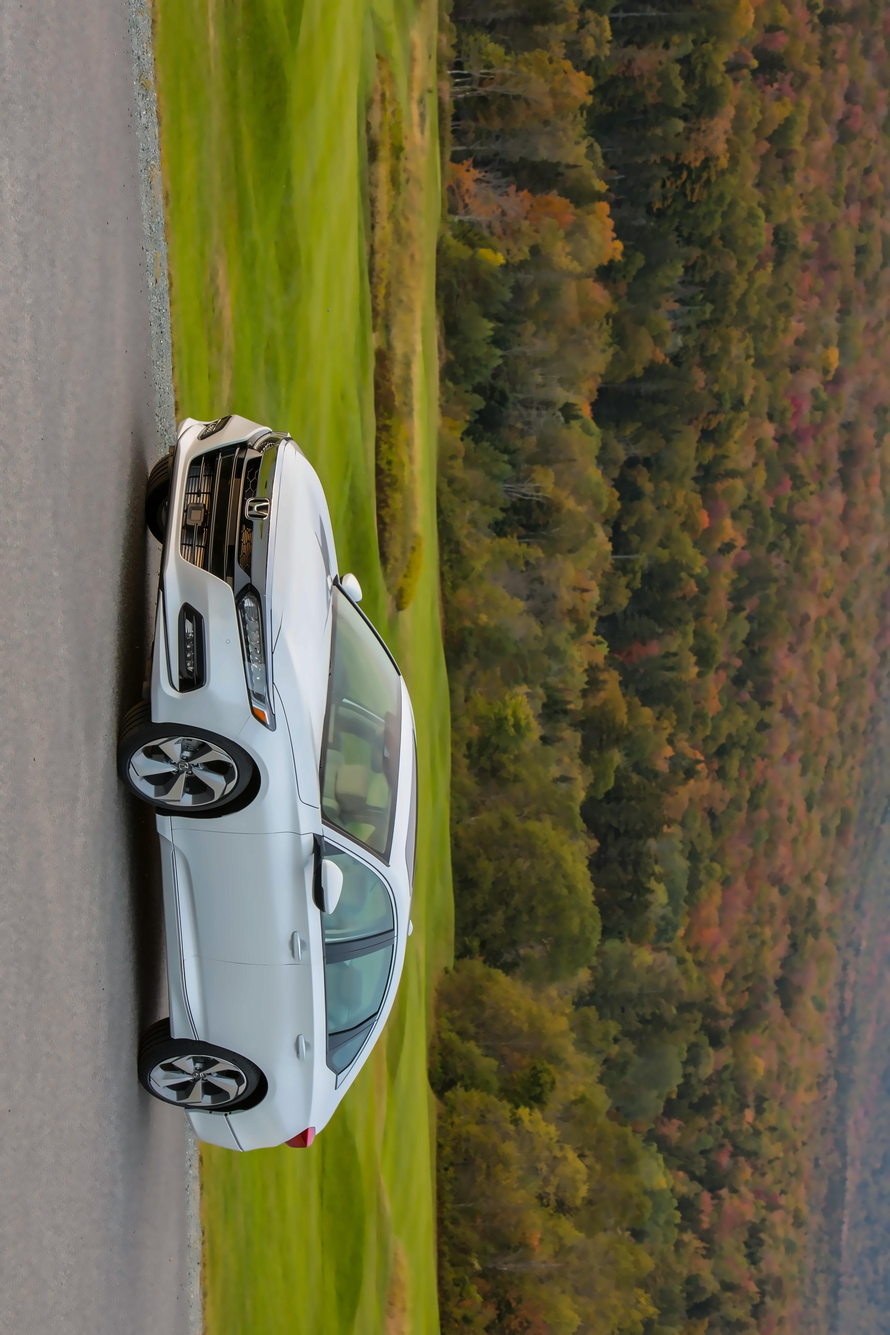Car hood: (263, 429, 332, 811)
Fender - -F-L-: (137, 706, 362, 842)
Fender - -R-L-: (194, 1055, 348, 1151)
Front bumper: (140, 399, 246, 740)
Headlight - -L-: (227, 572, 288, 737)
Headlight - -R-: (243, 411, 301, 457)
Passenger-s door - -F-L-: (168, 823, 408, 959)
Passenger-s door - -R-L-: (179, 938, 406, 1060)
Rear bumper: (183, 1097, 249, 1171)
Rear light - -L-: (276, 1113, 322, 1165)
Side bumper - -L-: (148, 810, 203, 1048)
Side mirror - -L-: (308, 851, 348, 922)
Side mirror - -R-: (333, 566, 371, 610)
